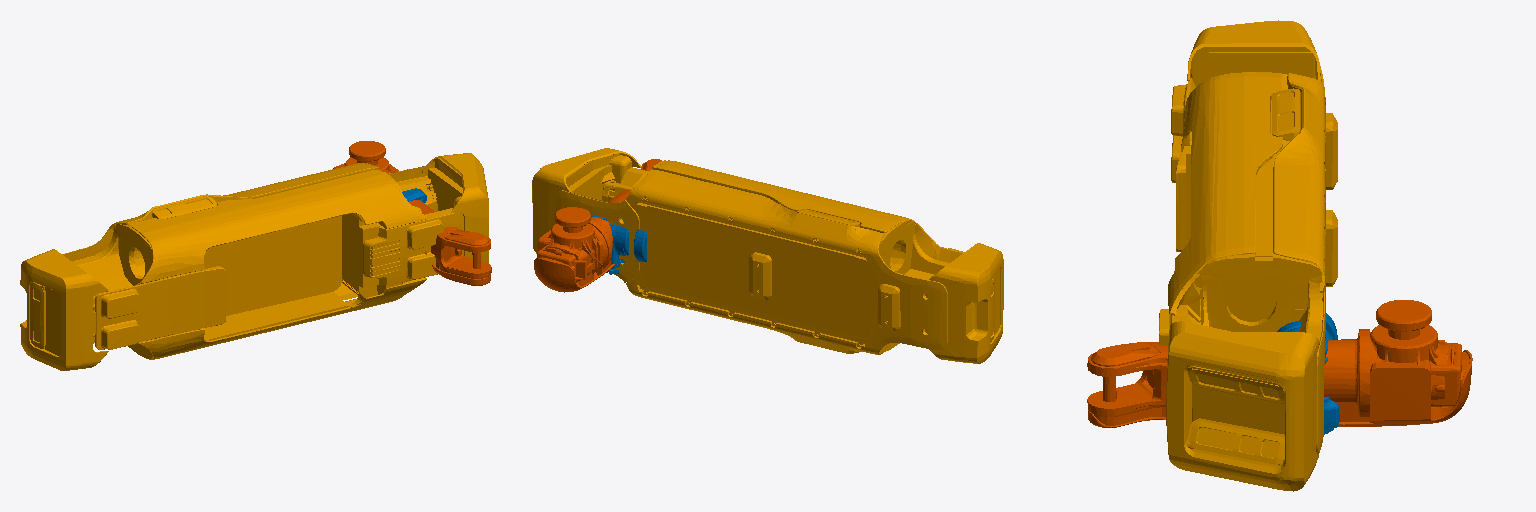
URDF robot description (spot):
<?xml version="1.0" ?>
<!-- =================================================================================== -->
<!-- |    This document was autogenerated by xacro from spot.urdf.xacro                | -->
<!-- |    EDITING THIS FILE BY HAND IS NOT RECOMMENDED                                 | -->
<!-- =================================================================================== -->
<robot name="spot">
  <mujoco>
    <compiler discardvisual="false"/>
  </mujoco>
  <!-- Body -->
  <link name="body">
    <visual>
      <geometry>
        <mesh filename="body.obj"/>
      </geometry>
    </visual>
    <collision>
      <geometry>
        <mesh filename="body_collision.stl"/>
      </geometry>
    </collision>
    <inertial>
      <mass value="16.25"/>
      <inertia ixx="0.085" ixy="0.0" ixz="0.0" iyy="1.045" iyz="0.0" izz="1.042"/>
    </inertial>
  </link>
  <!-- Base link -->
  <link name="base_link"/>
  <joint name="base_link_joint" type="fixed">
    <origin rpy="0 0 0" xyz="0 0 0"/>
    <parent link="body"/>
    <child link="base_link"/>
  </joint>
  <!-- Front rail -->
  <link name="front_rail"/>
  <joint name="front_rail_joint" type="fixed">
    <origin rpy="0 0 0" xyz="0.223 0 0.04505"/>
    <parent link="body"/>
    <child link="front_rail"/>
  </joint>
  <!-- Rear rail -->
  <link name="rear_rail"/>
  <joint name="rear_rail_joint" type="fixed">
    <origin rpy="0 0 0" xyz="-0.223 0 0.04505"/>
    <parent link="body"/>
    <child link="rear_rail"/>
  </joint>
  <!-- front_left_hip -->
  <link name="front_left_hip">
    <visual>
      <geometry>
        <mesh filename="front_left_hip.obj"/>
      </geometry>
    </visual>
    <collision>
      <geometry>
        <mesh filename="front_left_hip_collision.stl"/>
      </geometry>
    </collision>
    <inertial>
      <mass value="1.5"/>
      <inertia ixx="0.0605" ixy="0.0" ixz="0.0" iyy="0.0605" iyz="0.0" izz="0.0605"/>
    </inertial>
  </link>
  <joint name="front_left_hip_x" type="revolute">
    <origin rpy="0 0 0" xyz="0.29785 0.05500 0.00000"/>
    <axis xyz="1 0 0"/>
    <parent link="body"/>
    <child link="front_left_hip"/>
    <dynamics damping="0.1" friction="0.1"/>
    <limit effort="1000" lower="-0.78539816339744827899" upper="0.78539816339744827899" velocity="1000.00"/>
  </joint>
  <transmission name="front_left_hip_x_trans">
    <type>transmission_interface/SimpleTransmission</type>
    <joint name="front_left_hip_x">
      <hardwareInterface>EffortJointInterface</hardwareInterface>
    </joint>
    <actuator name="front_left_hip_x">
      <mechanicalReduction>50</mechanicalReduction>
      <hardwareInterface>EffortJointInterface</hardwareInterface>
    </actuator>
  </transmission>
  <!-- front_left_upper_leg -->
  <link name="front_left_upper_leg">
    <visual>
      <geometry>
        <mesh filename="front_left_upper_leg.obj"/>
      </geometry>
    </visual>
    <collision>
      <geometry>
        <mesh filename="front_left_upper_leg_collision.stl"/>
      </geometry>
    </collision>
    <inertial>
      <mass value="1.5"/>
      <inertia ixx="0.05" ixy="0.0" ixz="0.0" iyy="0.05" iyz="0.0" izz="0.05"/>
    </inertial>
  </link>
  <joint name="front_left_hip_y" type="revolute">
    <origin rpy="0 0 0" xyz="0.0 0.110945 0.0"/>
    <axis xyz="0 1 0"/>
    <parent link="front_left_hip"/>
    <child link="front_left_upper_leg"/>
    <dynamics damping="0.1" friction="0.1"/>
    <limit effort="1000" lower="-0.89884456477707963539" upper="2.2951079663725435509" velocity="1000.00"/>
  </joint>
  <transmission name="front_left_hip_y_trans">
    <type>transmission_interface/SimpleTransmission</type>
    <joint name="front_left_hip_y">
      <hardwareInterface>EffortJointInterface</hardwareInterface>
    </joint>
    <actuator name="front_left_hip_y">
      <mechanicalReduction>50</mechanicalReduction>
      <hardwareInterface>EffortJointInterface</hardwareInterface>
    </actuator>
  </transmission>
  <!-- Additional links and joints have been similarly adjusted for inertia values -->
</robot>

--- What the picture shows (computed from the rendered views, not written in the file) ---
3 views of the same robot in one strip: view 1: azimuth 30°, elevation 25°; view 2: azimuth 150°, elevation 25°; view 3: azimuth 270°, elevation 25° (orthographic).
Robot: spot — 6 links, 5 joints (2 revolute, 3 fixed); root link body; default pose: all joints at 0.
Visible links, largest first — view 1: body, front_left_upper_leg; view 2: body, front_left_upper_leg, front_left_hip; view 3: body, front_left_upper_leg, front_left_hip.
Boxes of the visible links, x1,y1,x2,y2 form: body: (20, 153, 488, 370); front_left_upper_leg: (333, 141, 491, 285); body: (532, 148, 1003, 363); front_left_upper_leg: (534, 159, 661, 292); front_left_hip: (591, 215, 646, 274); body: (1159, 20, 1337, 491); front_left_upper_leg: (1087, 300, 1472, 427); front_left_hip: (1277, 313, 1339, 434).
Size in the robot's own frame: 0.8724 by 0.4185 by 0.2392 metres.
Meshes: 3 distinct files referenced, 3 mesh visuals loaded (3 OBJ).